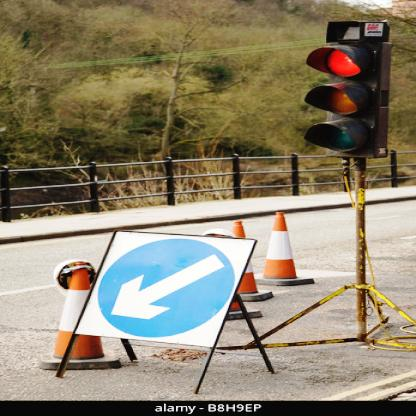Keep left: (89, 230, 234, 340)
